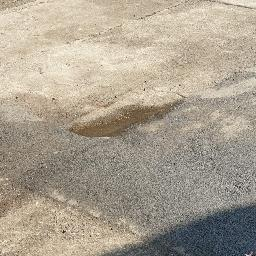water accumulation: (68, 99, 187, 139)
